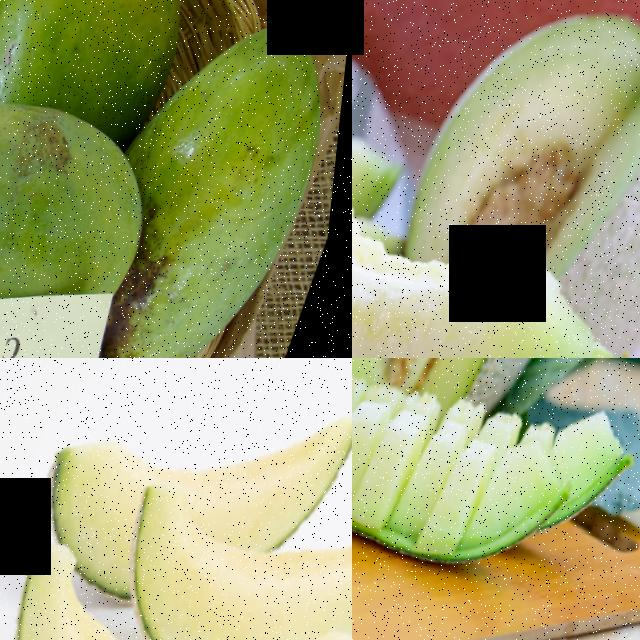mango: (102, 4, 352, 358), (0, 70, 188, 300), (0, 0, 230, 136)
melon: (404, 0, 640, 293), (98, 426, 352, 640), (352, 204, 640, 358), (0, 542, 352, 640)
